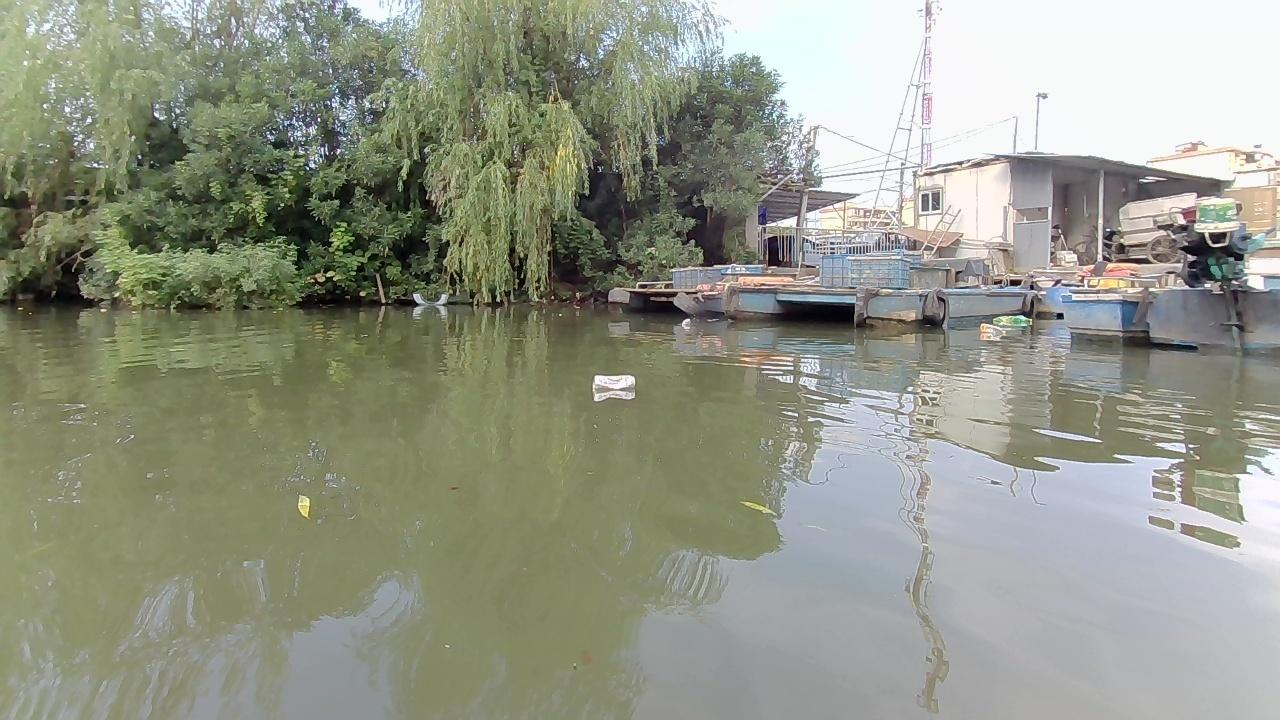bottle: (589, 372, 641, 391), (993, 311, 1033, 332), (977, 322, 1002, 342)
